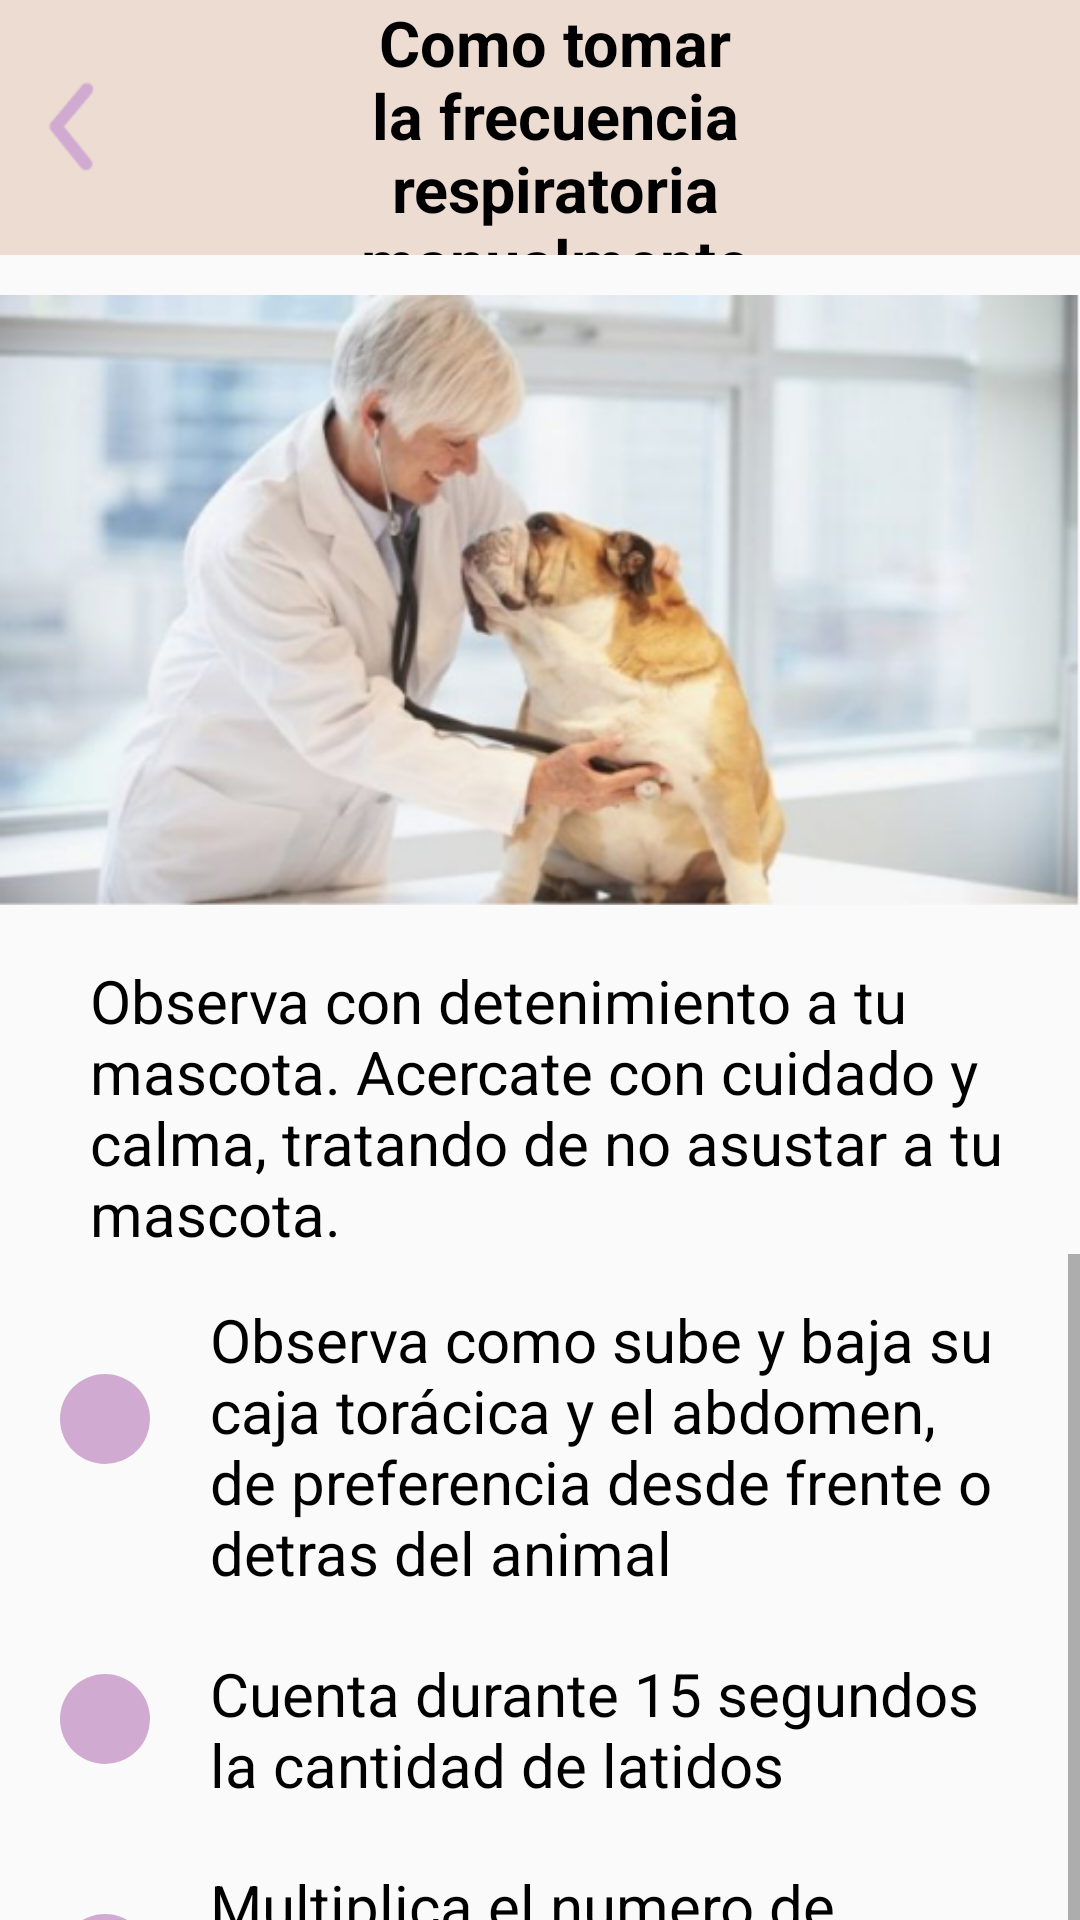

Icons on this 1080×1920 Android screen, each with its box as {"left": x1, "top": y1, "right": x2, "bottom": y2}:
back: {"left": 50, "top": 83, "right": 93, "bottom": 170}
